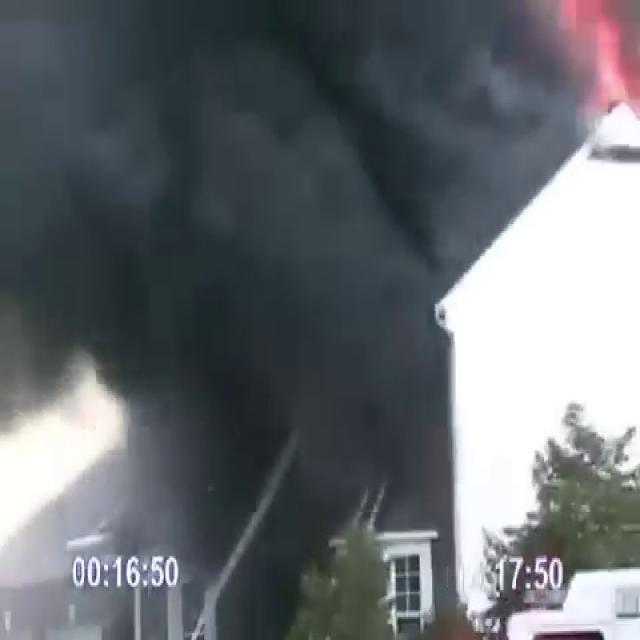Smoke: (1, 1, 614, 639)
